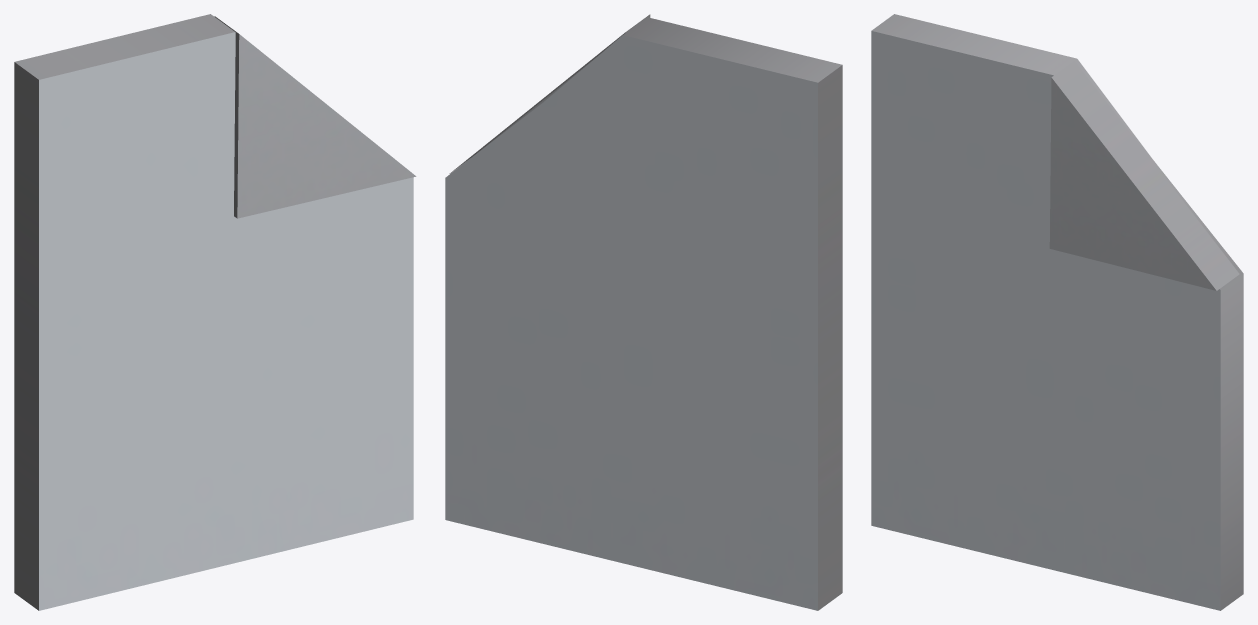
The model's file is SM_Paper.fbx.
3 renders of one model, left to right at view 1: azimuth 30°, elevation 25°; view 2: azimuth 150°, elevation 25°; view 3: azimuth 330°, elevation 25°, orthographic. The views are drawn at different scales.
Visible parts, largest first — view 1: SM_Paper; view 2: SM_Paper; view 3: SM_Paper.
Part boxes in pixels (x1,y1,x2,y2): SM_Paper: (14, 14, 416, 610); SM_Paper: (445, 14, 842, 610); SM_Paper: (871, 14, 1243, 610).
Bounding box in the file's own units: 17.55 × 23.79 × 2.28.
